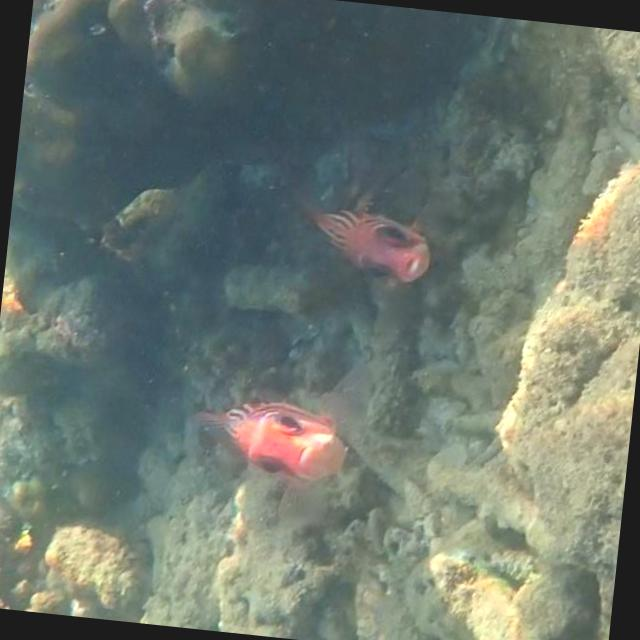Asker Baligi: (176, 372, 377, 518), (266, 189, 446, 294)
